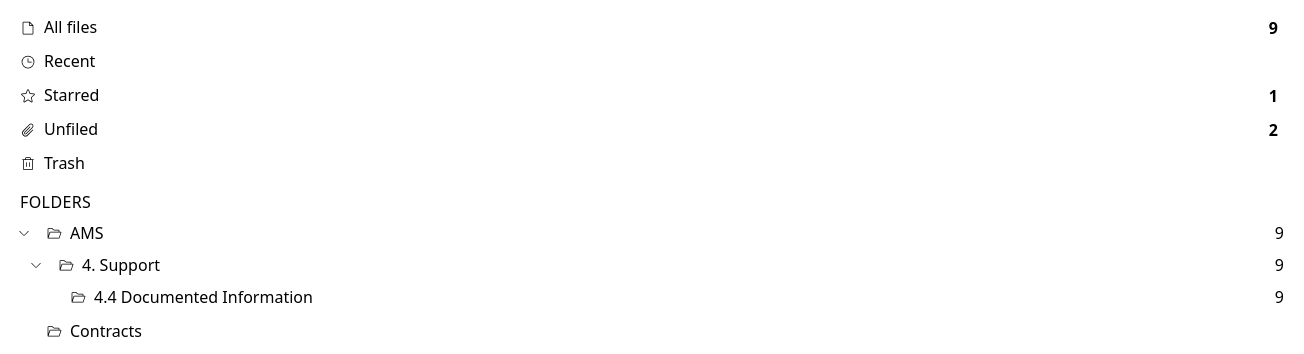
Test: FolderTree › opens down to the folder you are in, and a folder can be collapsed
Click the button named "Collapse 4. Support": (36, 265) x1=24 y1=253 x2=48 y2=277
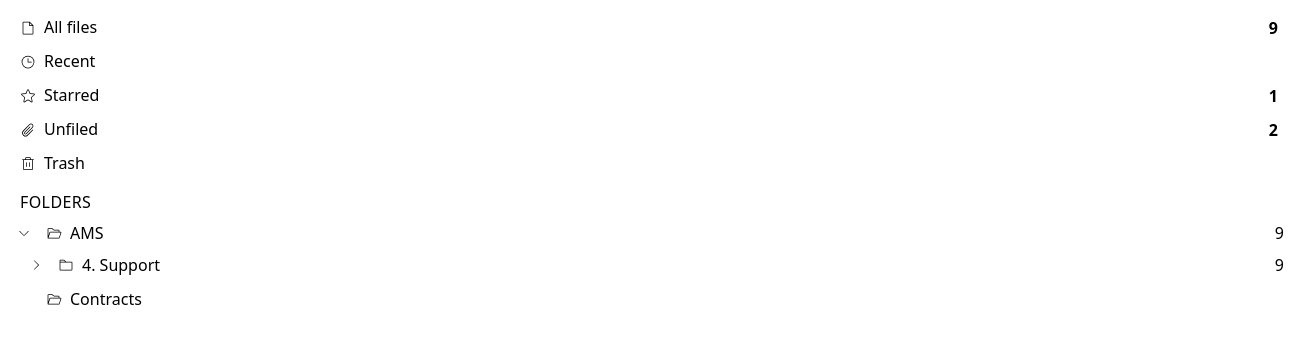
Now the button "4.4 Documented Information" is gone
Click the button named "Expand 4. Support": (36, 265) x1=24 y1=253 x2=48 y2=277
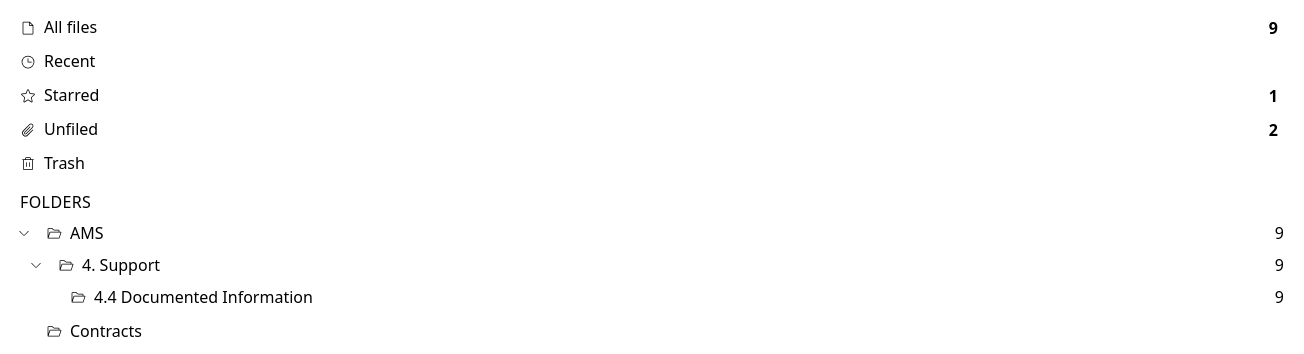
Now the button "4.4 Documented Information 9" is shown, box x1=62 y1=281 x2=1292 y2=313
